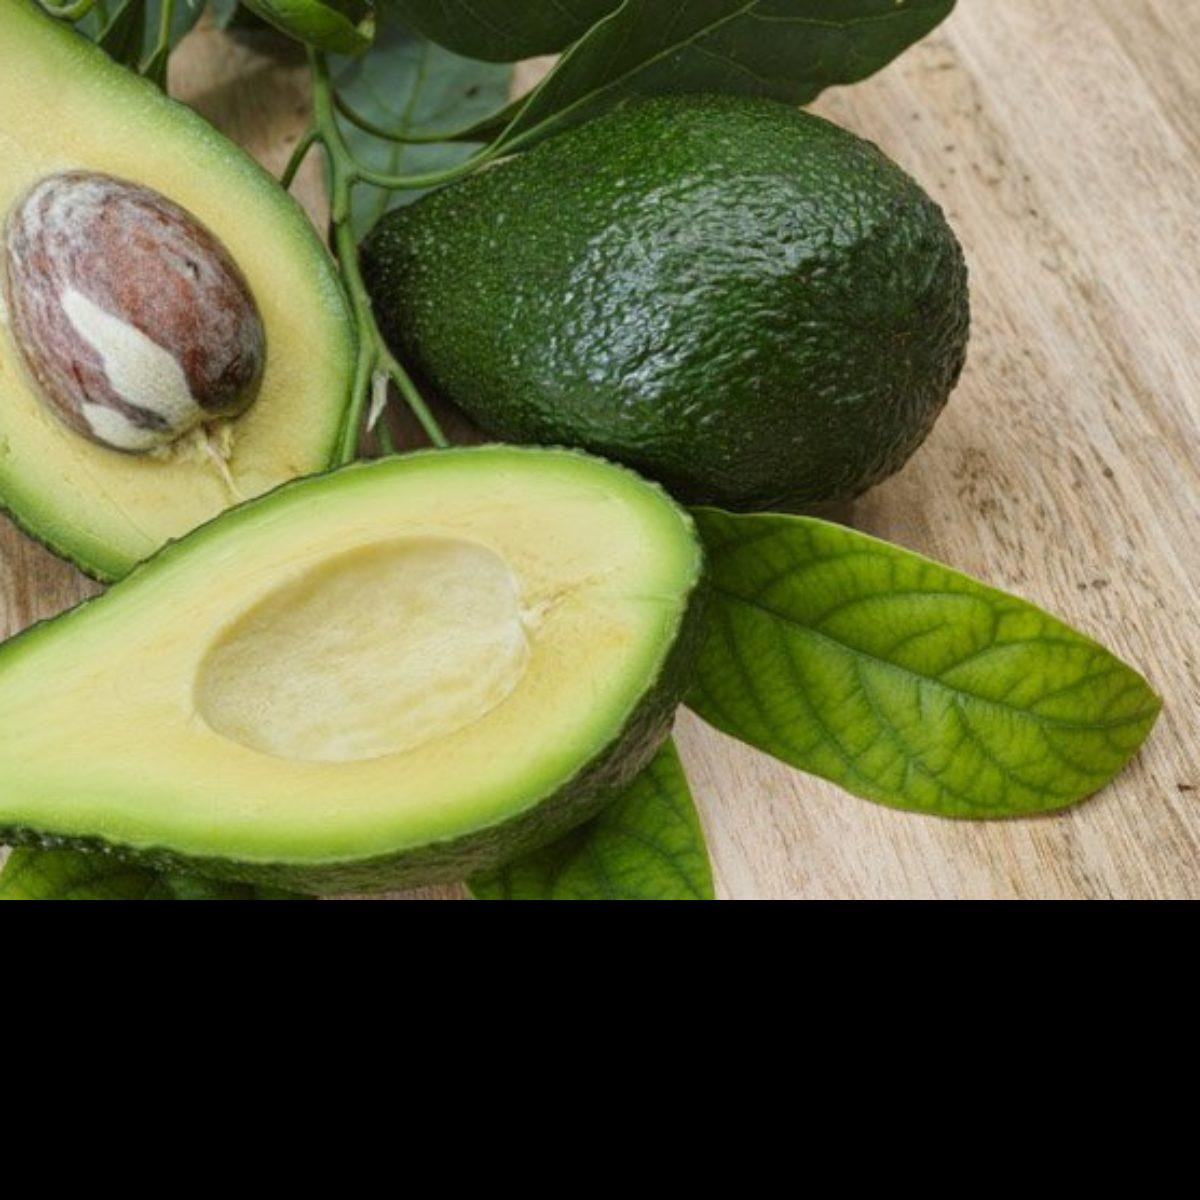unripe: (356, 93, 973, 519)
